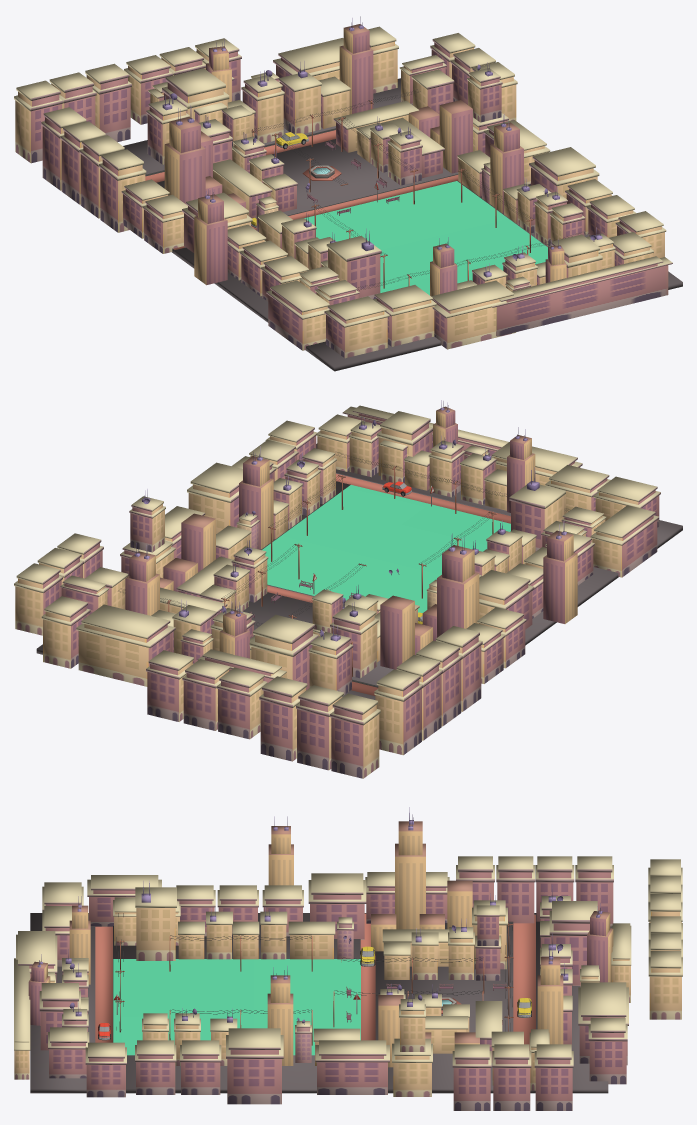
The model's file is City Patch.FBX.
The picture shows the model from 3 angles, top to bottom: view 1: azimuth 30°, elevation 25°; view 2: azimuth 150°, elevation 25°; view 3: azimuth 270°, elevation 25°; orthographic projection. The views are drawn at different scales.
Parts seen in each view (by area): view 1: UniqueID_6, Plane001; view 2: UniqueID_6, Plane001; view 3: UniqueID_6, Plane001.
Boxes of the visible parts, <box> form: UniqueID_6: <box>14,16,682,371</box>; Plane001: <box>304,181,547,295</box>; UniqueID_6: <box>14,400,682,778</box>; Plane001: <box>262,485,510,612</box>; UniqueID_6: <box>14,807,682,1110</box>; Plane001: <box>113,959,360,1055</box>.
Size of the model in its own units: 19.42 by 27.19 by 6.07.
Materials: 6 (6 with a texture image).
